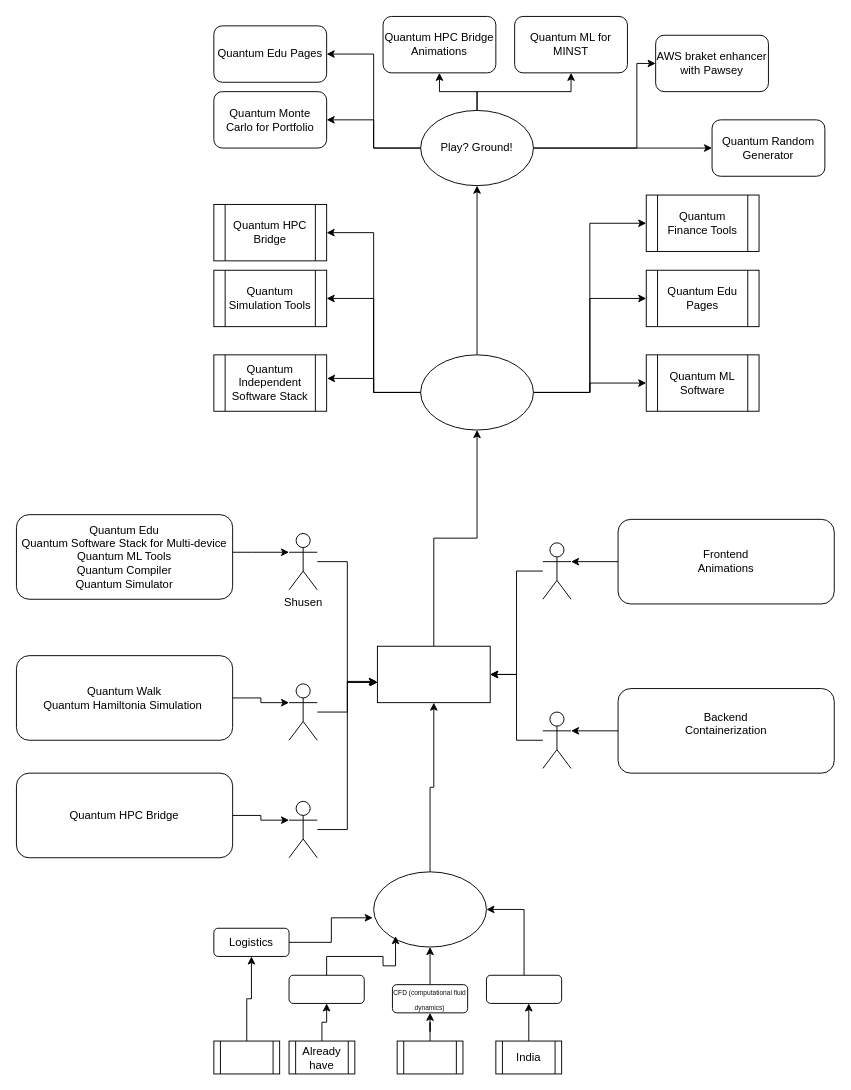
Image size: 851x1090. Some labels were removed from this diagram. The centre of each missing label's shape, as x and y in pixels:
Domain: [429,909]
Edric: [302,711]
Environment: [524,988]
Finances: [326,988]
Melb U: [429,1057]
Pascal: [302,829]
PlayGrounds: [433,674]
Possible Products: [476,392]
Quera: [246,1057]
Yongfan: [556,570]
Yunfan: [556,739]
